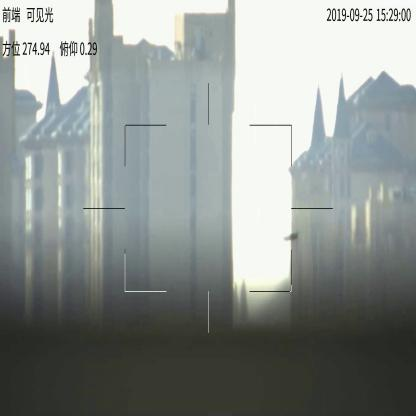uav: (283, 230, 298, 241)
